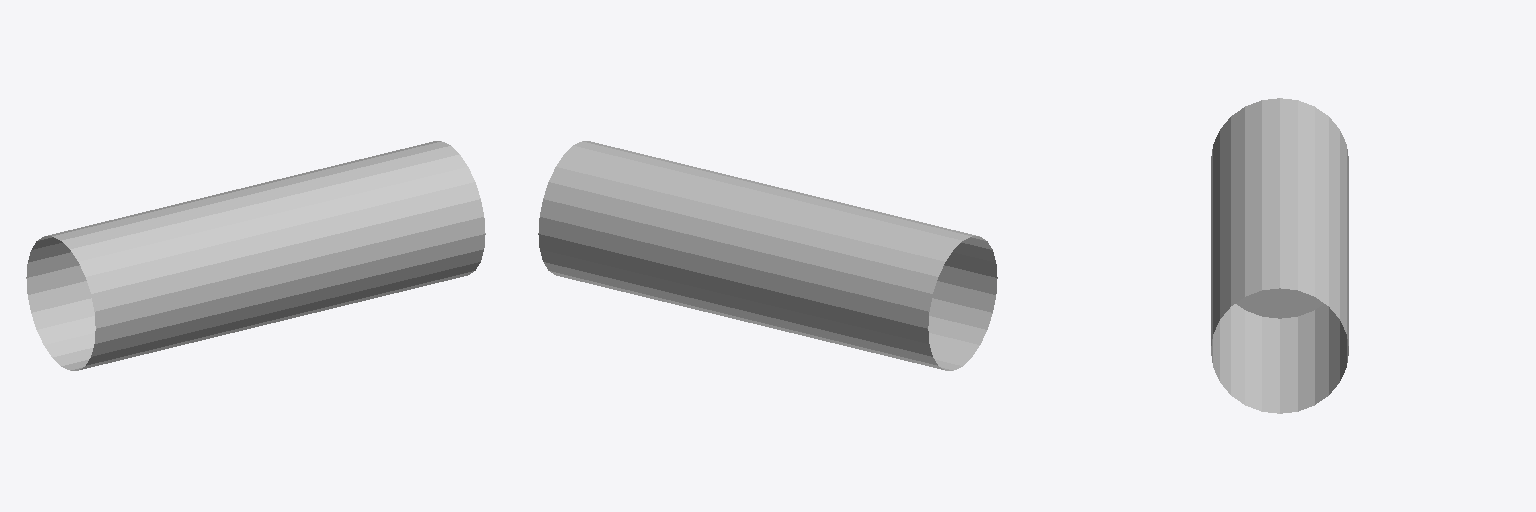
The model's file is original-105.obj.
3 renders of one model, left to right at view 1: azimuth 30°, elevation 25°; view 2: azimuth 150°, elevation 25°; view 3: azimuth 270°, elevation 25°, orthographic.
Parts seen in each view (by area): view 1: #ID676; view 2: #ID676; view 3: #ID676.
Part boxes in pixels (left/top/right/bottom): #ID676: left=26, top=141, right=485, bottom=370; #ID676: left=538, top=141, right=997, bottom=370; #ID676: left=1211, top=98, right=1348, bottom=413.
Bounding box in the file's own units: 0.0196 × 0.006 × 0.006.